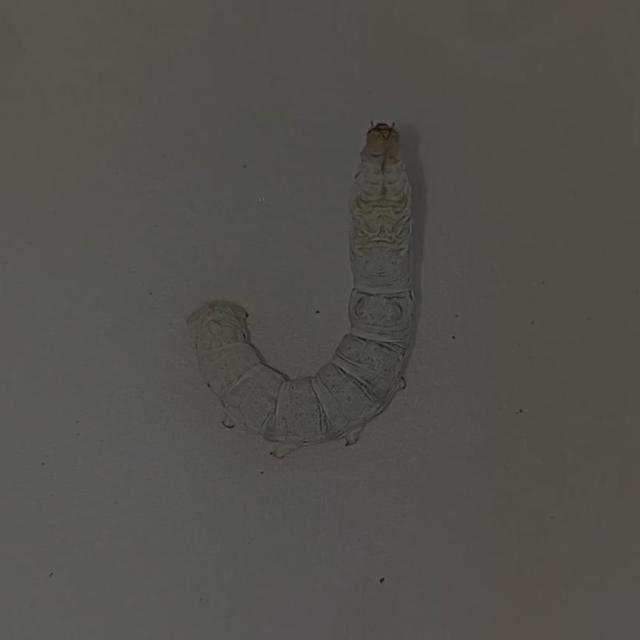Healthy: (146, 94, 448, 488)
